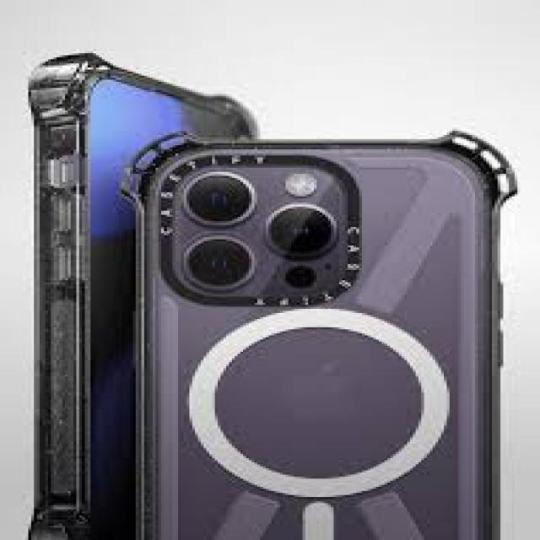phone: (125, 141, 524, 540)
